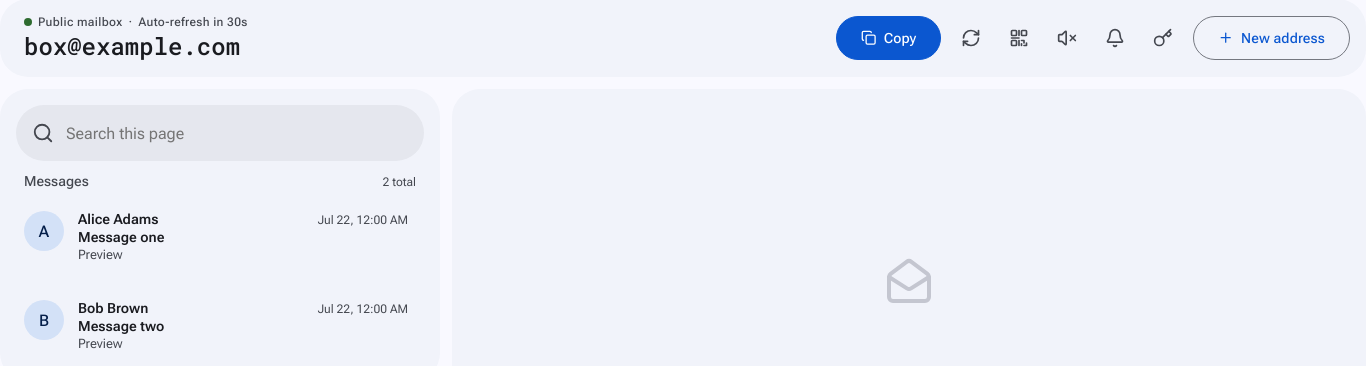
it: InboxView polling › narrows rows by sender name and address fragments
The image size is (1366, 366).
Step 1. Type "alice" into the search field with placeholder "Search this page" → (237, 133), box [66,124,408,142]
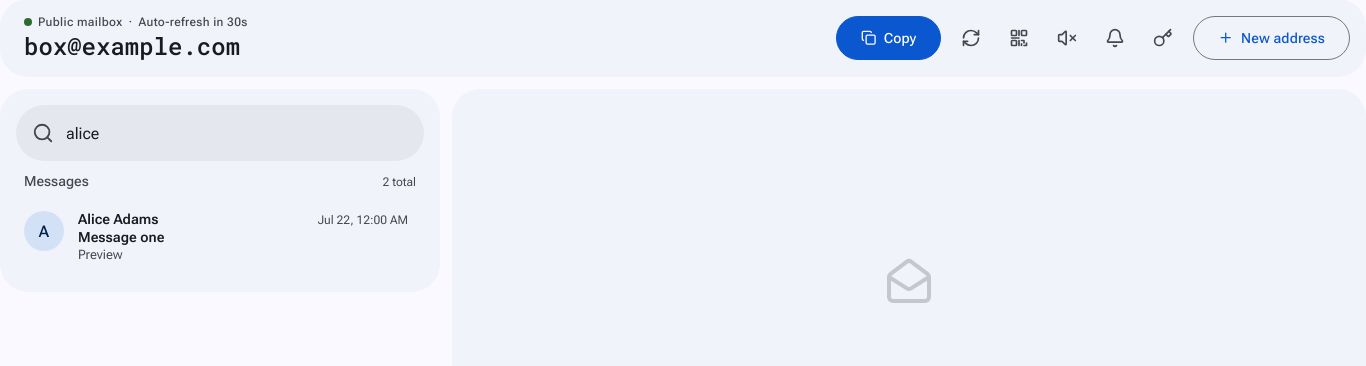
Expected: the text "Alice Adams" is shown, [78,211,159,227]
Now the text "Bob Brown" is gone
Step 2. Replace the text in the search field with "bob@example.com" → (237, 133), box [66,124,408,142]
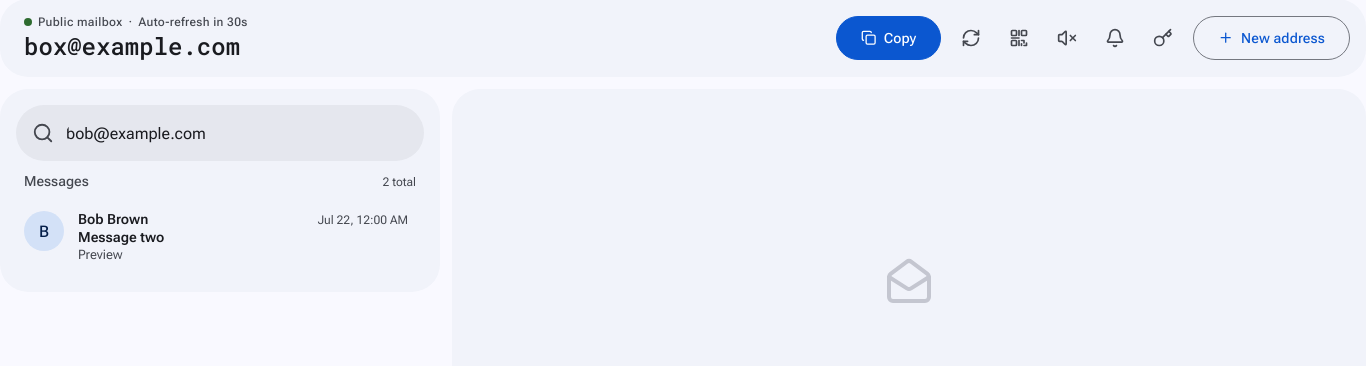
Now the text "Bob Brown" is shown, box [78,211,148,227]
Now the text "Alice Adams" is gone
